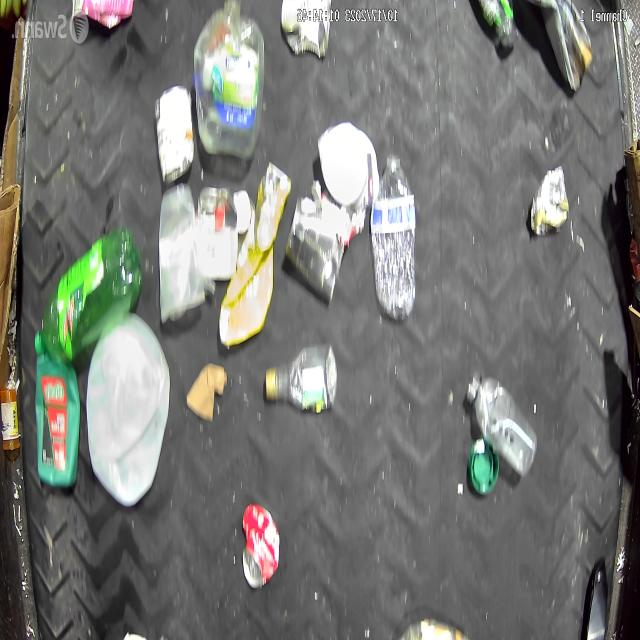can: (286, 193, 346, 302), (155, 82, 192, 184), (240, 502, 280, 590), (281, 1, 332, 61)
milk_jug: (86, 310, 169, 508)
non_white_jug: (220, 161, 290, 348), (33, 352, 80, 484)
plastic_bottle: (34, 226, 144, 360), (367, 150, 415, 321), (463, 370, 536, 478), (265, 342, 338, 414)
